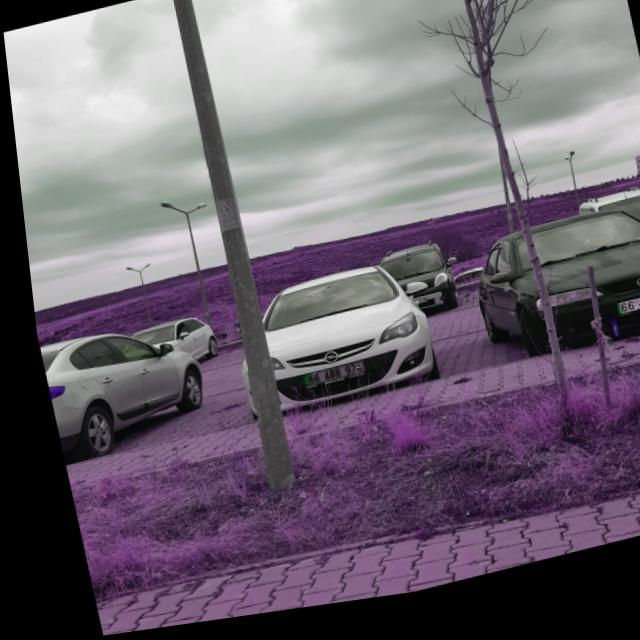license_plate: (291, 370, 355, 395), (608, 306, 640, 331)
